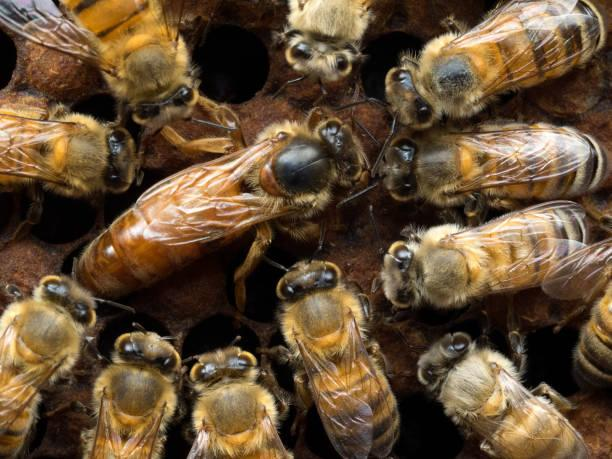Queen-Bee: (75, 109, 364, 310)
worker-bee: (0, 0, 228, 128), (385, 0, 606, 129), (262, 260, 399, 458), (380, 200, 588, 309), (417, 332, 588, 458), (382, 123, 611, 206), (0, 104, 137, 233), (0, 275, 95, 458), (83, 330, 180, 458), (188, 346, 292, 458)
